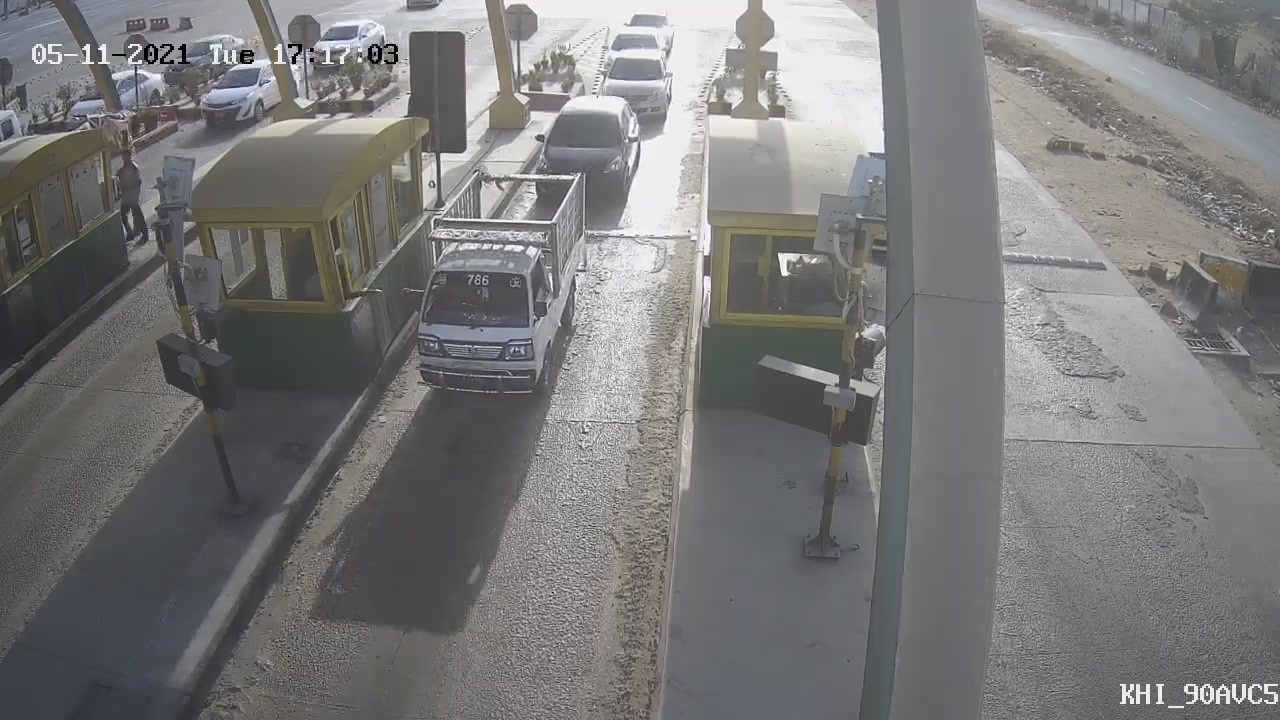F1: (513, 82, 652, 220)
